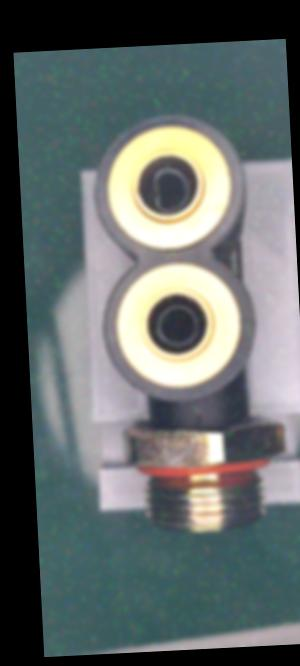craze: (189, 408, 203, 433)
off-centered: (138, 162, 198, 218)
